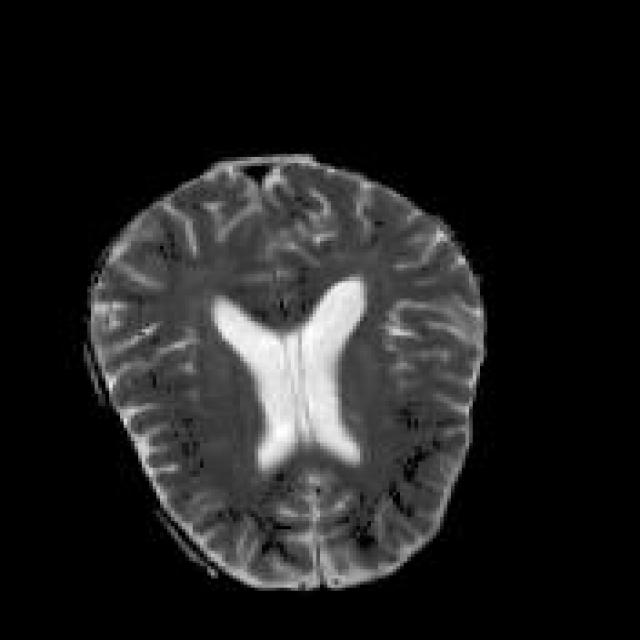CONTROL: (80, 151, 487, 591)
